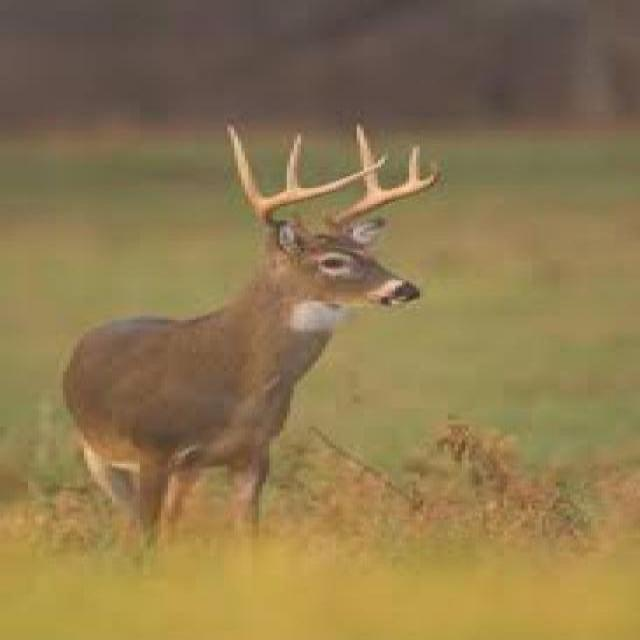deer: (49, 127, 437, 569)
